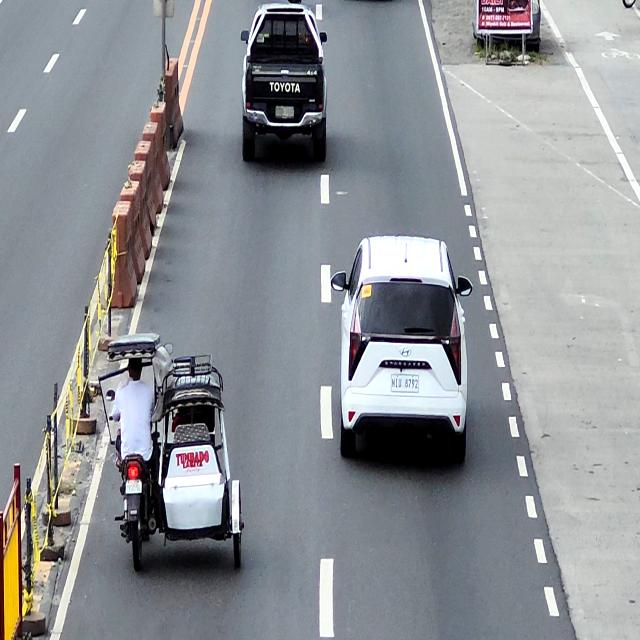Car: (331, 236, 472, 467), (240, 4, 328, 163)
License-Plate: (391, 373, 419, 392), (124, 480, 143, 496), (275, 105, 294, 118)
Tricycle: (104, 332, 244, 576)
